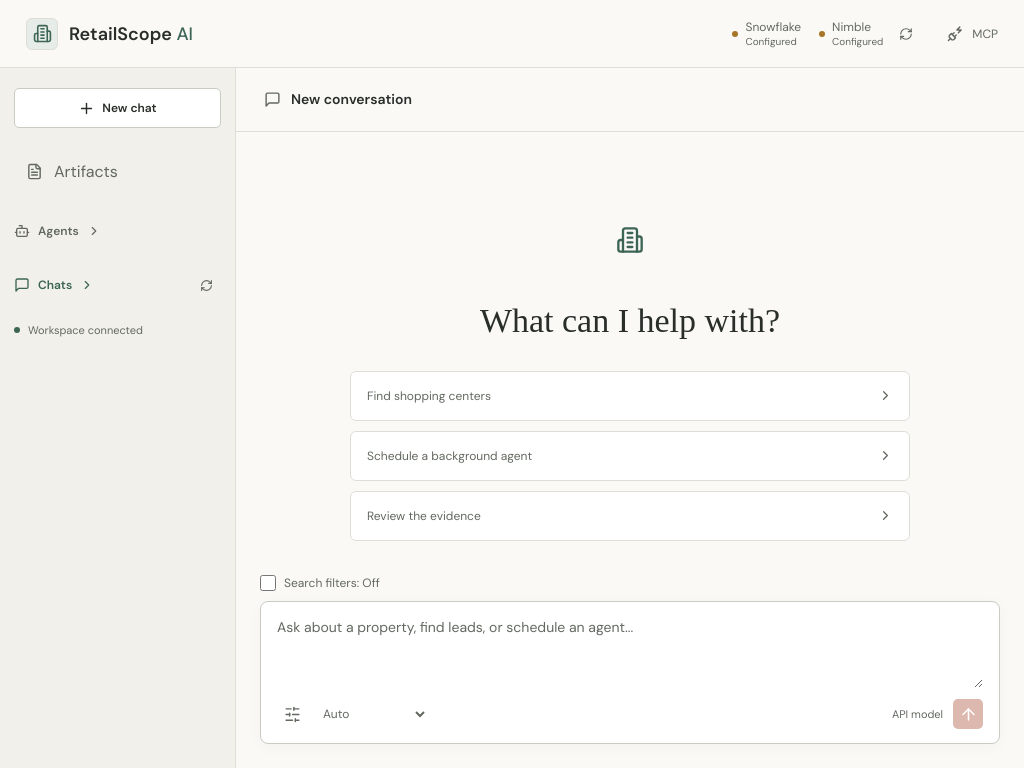
chat-first workspace › shows a single Chats control above history and keeps research filters off by default
expect the text "Workspace connected" is shown: met, box x1=14 y1=323 x2=143 y2=337
expect the number of buttons "Chats" is 1: met, box x1=14 y1=269 x2=94 y2=301
Step 1. Click the button "Artifacts" → (118, 172), box x1=14 y1=150 x2=221 y2=193
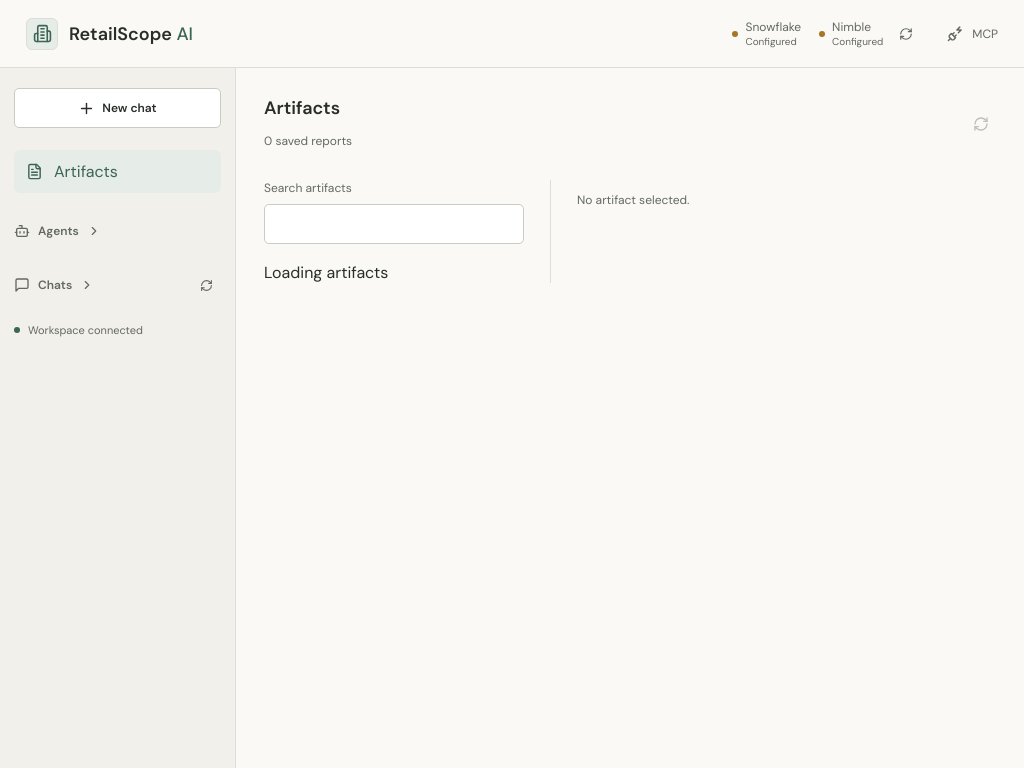
Step 2. Click the button "Chats" → (54, 285), box x1=14 y1=269 x2=94 y2=301
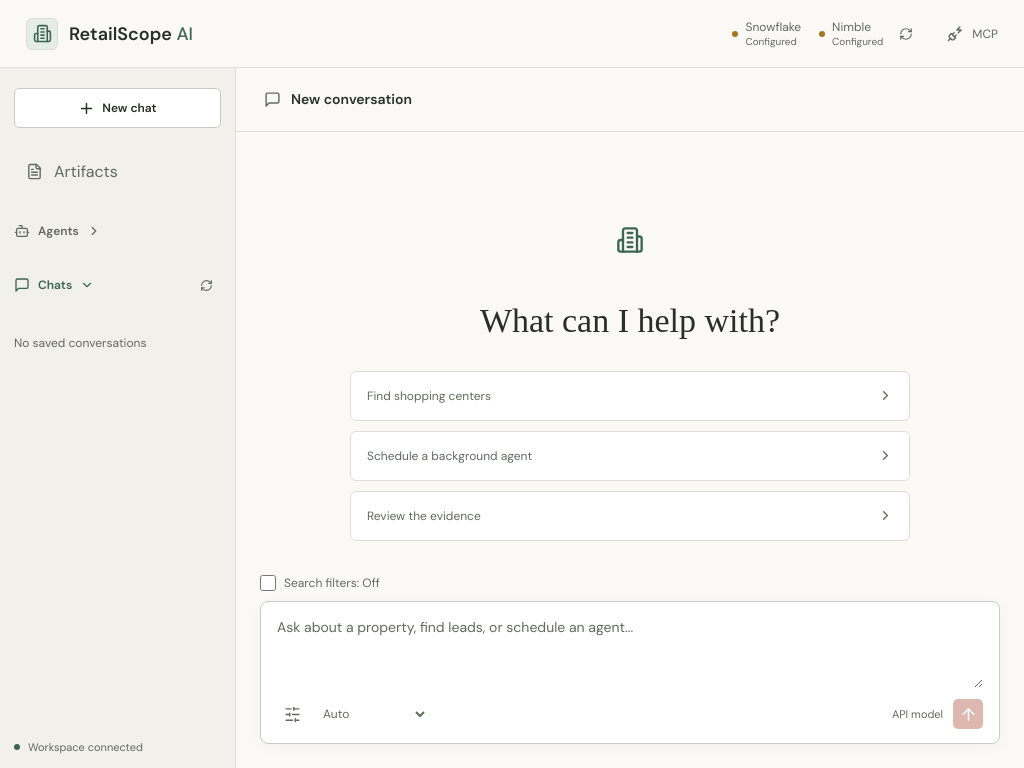
expect the button "Chats" is expanded: met, box x1=14 y1=269 x2=94 y2=301
expect the element named "Past conversations" is shown: met, box x1=14 y1=335 x2=146 y2=351
expect the element named "Research chat" is shown: met
